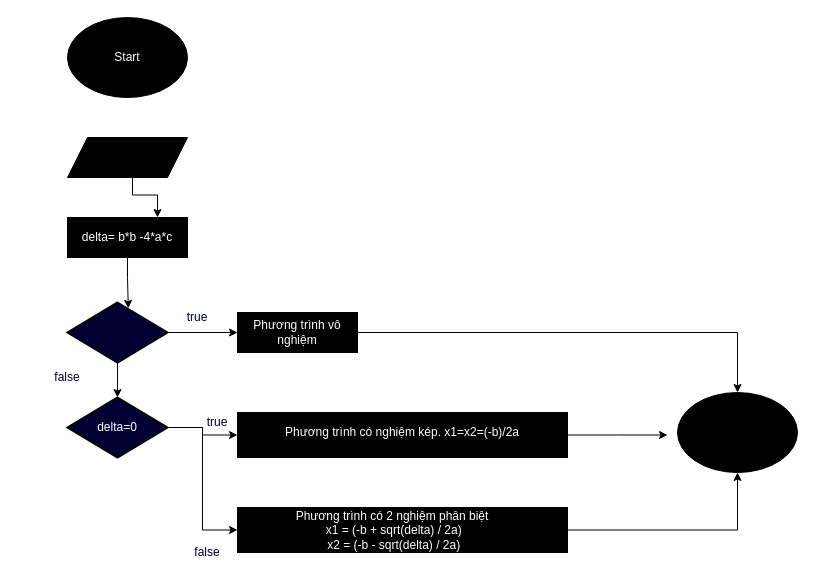
This 815x585 diagram has some shape labels left out. The centre of each missing label's shape, as x and y in pixels:
"delta<0" goes at (x=117, y=332).
"End" goes at (x=737, y=432).
"Nhập a, b, c" goes at (x=127, y=157).
